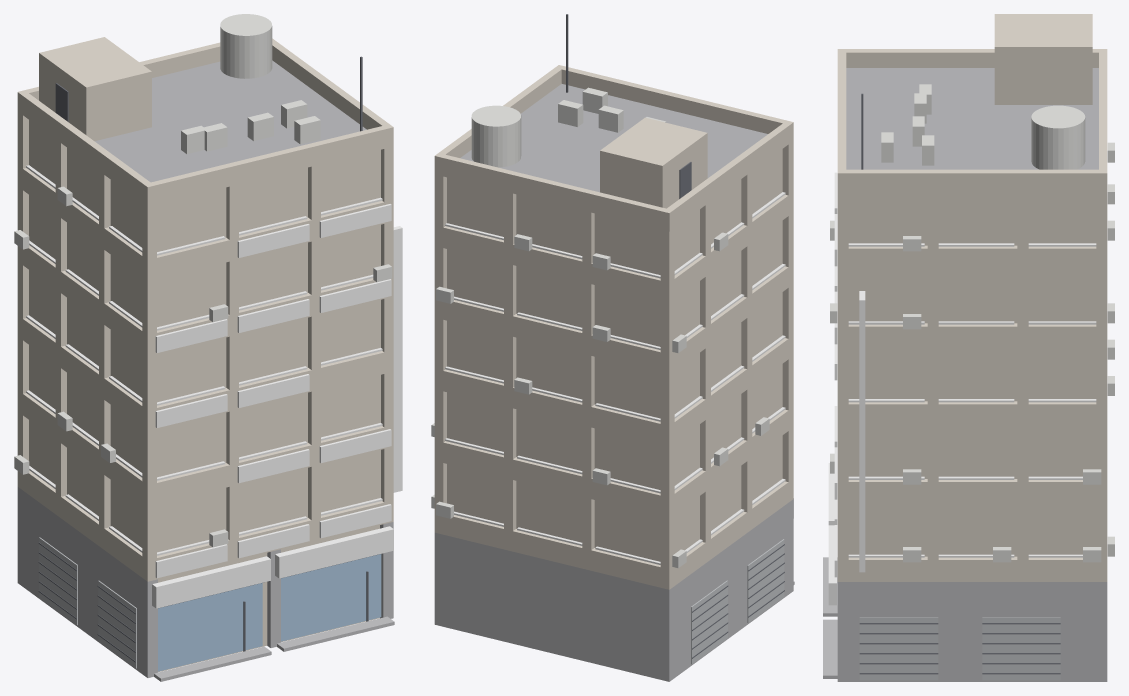
The model's file is bldg_3.glb.
3 renders of one model, left to right at view 1: azimuth 30°, elevation 25°; view 2: azimuth 150°, elevation 25°; view 3: azimuth 270°, elevation 25°, orthographic. The views are drawn at different scales.
Visible parts, largest first — view 1: building; view 2: building; view 3: building.
Boxes of the visible parts, x1,y1,x2,y2 form: building: (14, 14, 402, 681); building: (431, 14, 794, 681); building: (823, 14, 1114, 681).
Bounding box in the file's own units: 13.26 × 26 × 11.91.
